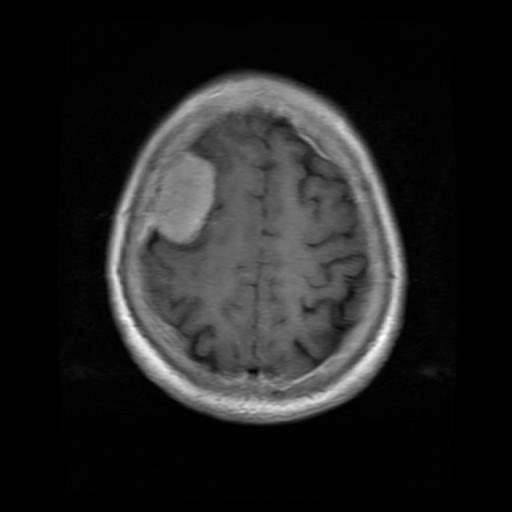Tumour-Meningioma: (148, 152, 229, 265)
